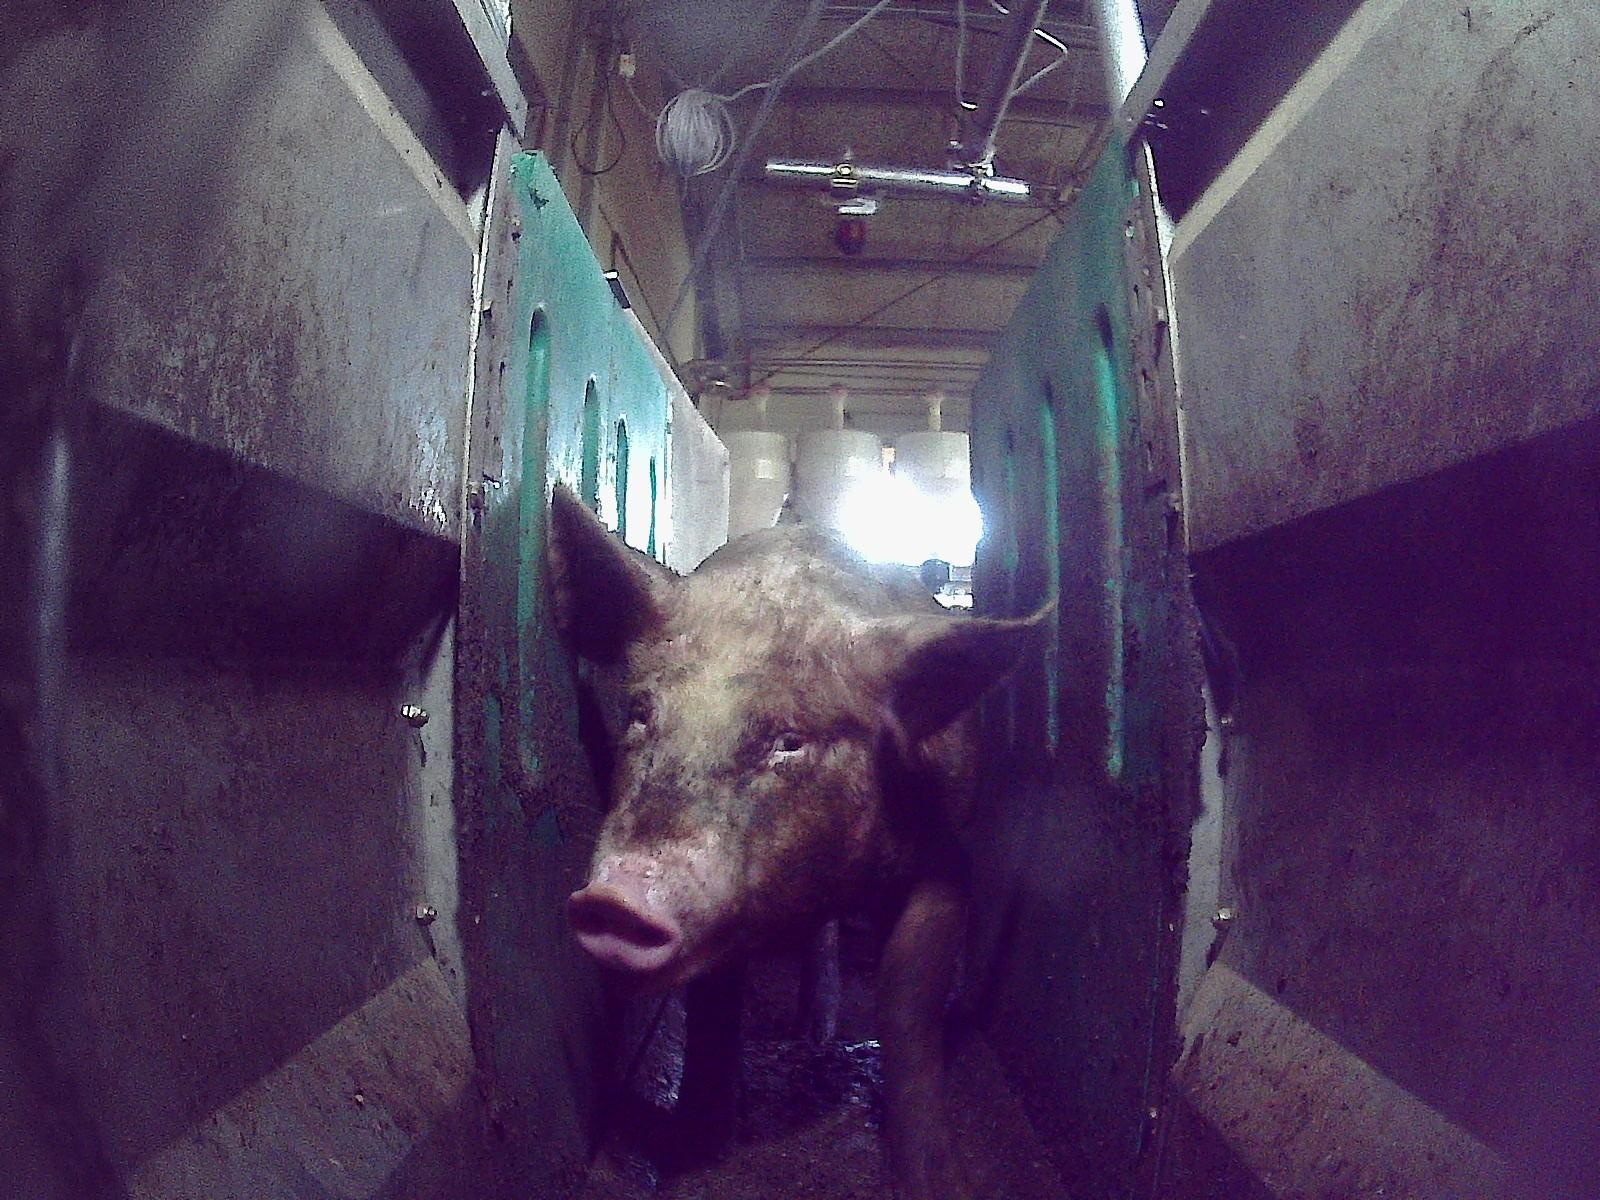Face: (568, 591, 896, 985)
